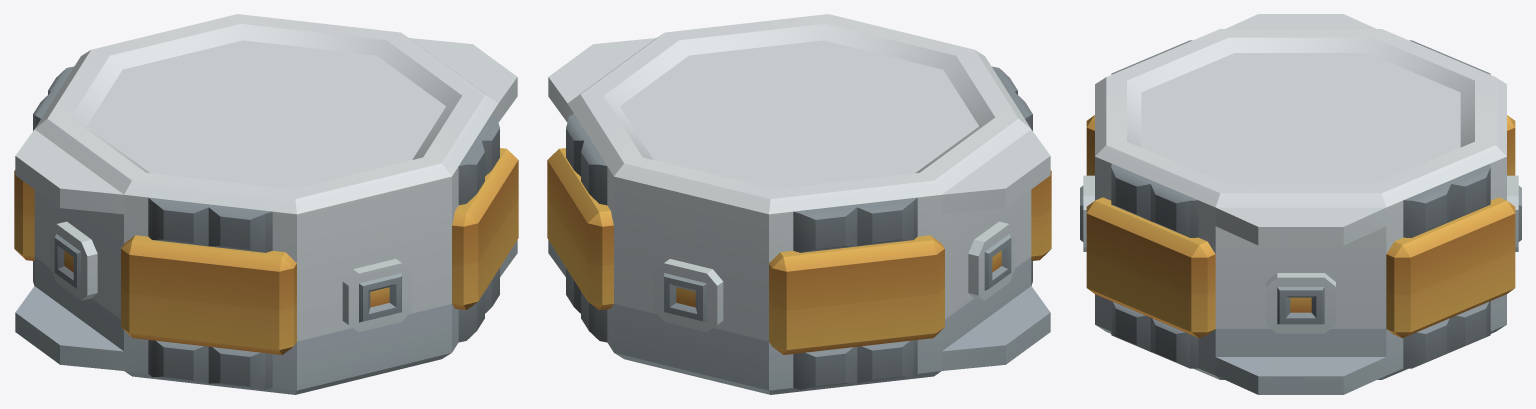
The model's file is basemodule_d.glb.
3 views of the same model, side by side, from view 1: azimuth 30°, elevation 25°; view 2: azimuth 150°, elevation 25°; view 3: azimuth 270°, elevation 25° (orthographic). The views are drawn at different scales.
Visible parts, largest first — view 1: basemodule_D; view 2: basemodule_D; view 3: basemodule_D.
Part boxes in pixels (x1,y1,x2,y2): basemodule_D: (14, 14, 518, 394); basemodule_D: (547, 14, 1051, 394); basemodule_D: (1080, 14, 1521, 394).
Bounding box in the file's own units: 2.44 × 1 × 2.14.
Materials: 1 (1 with a texture image).
